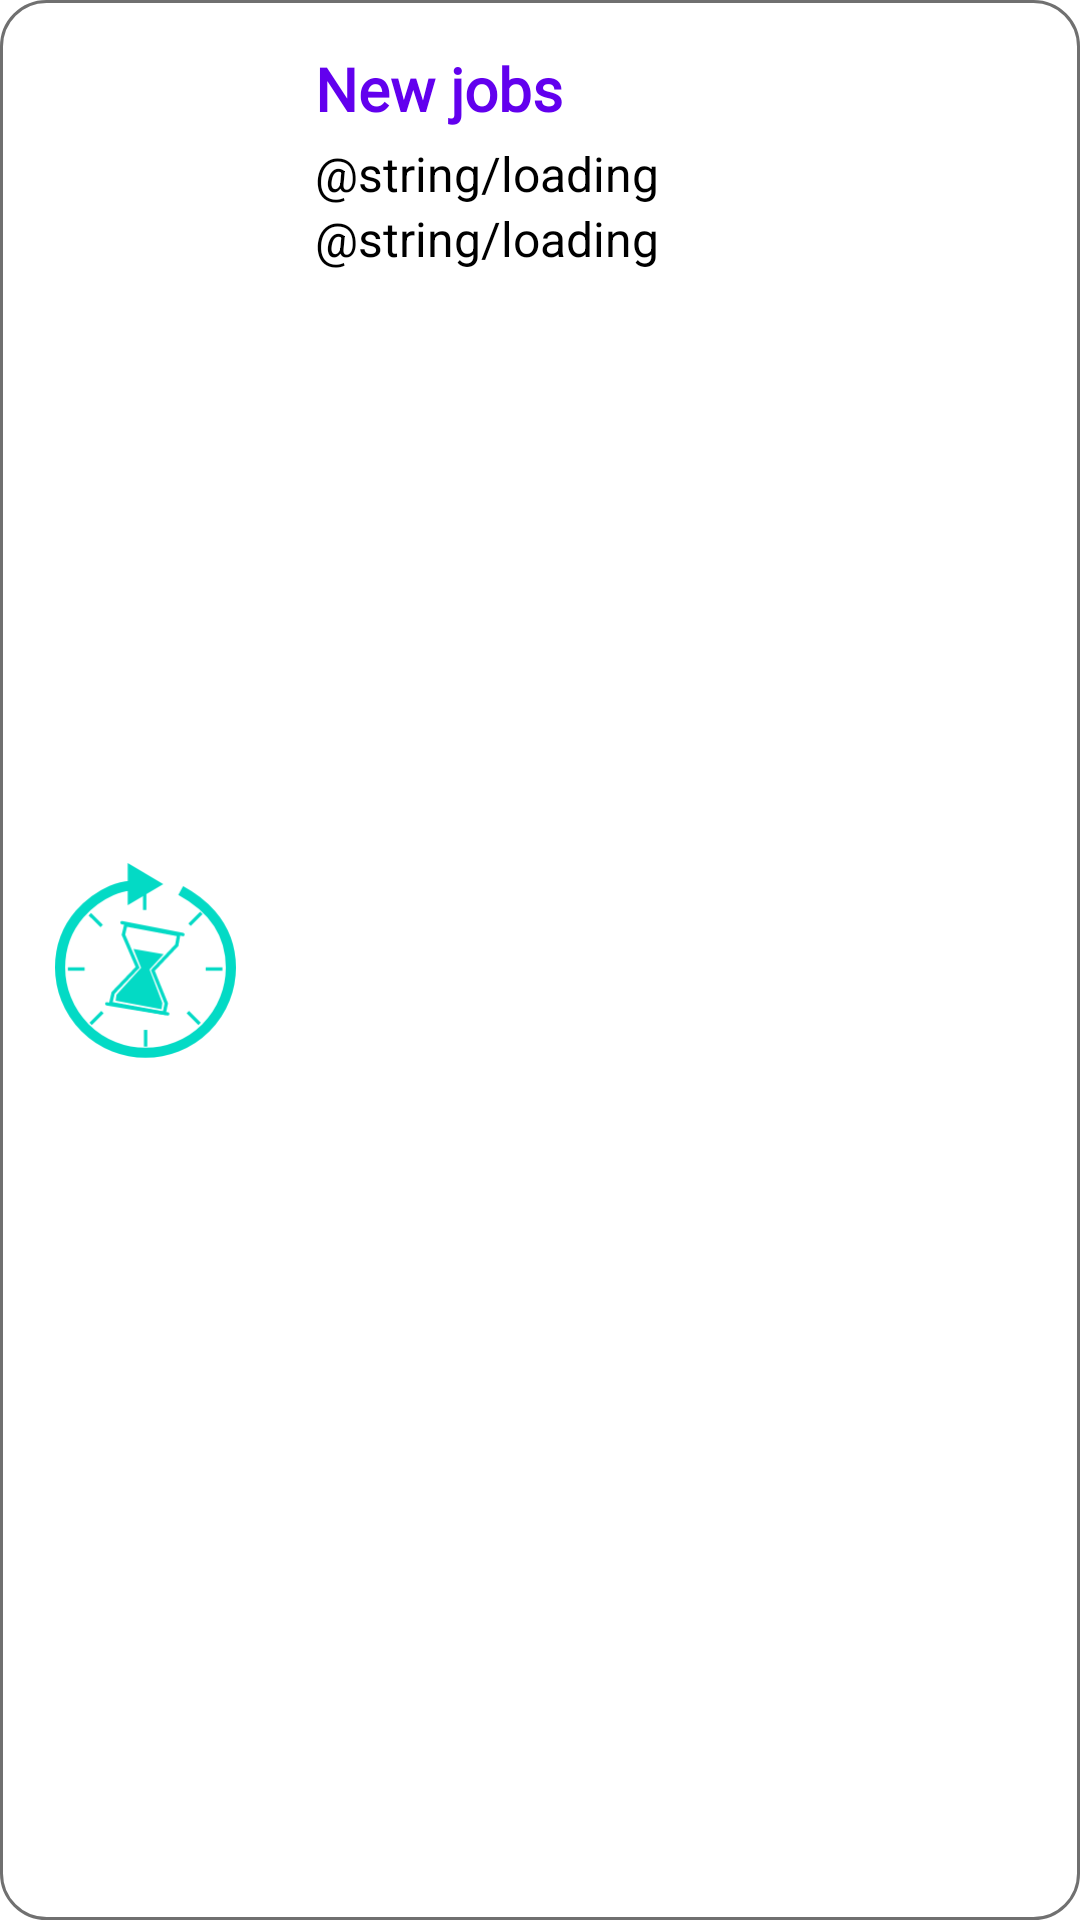

Where icons sit on this 1080 x 1920 app screen, as (x1,y1,x2,y2):
in progress: (55,863,236,1058)
